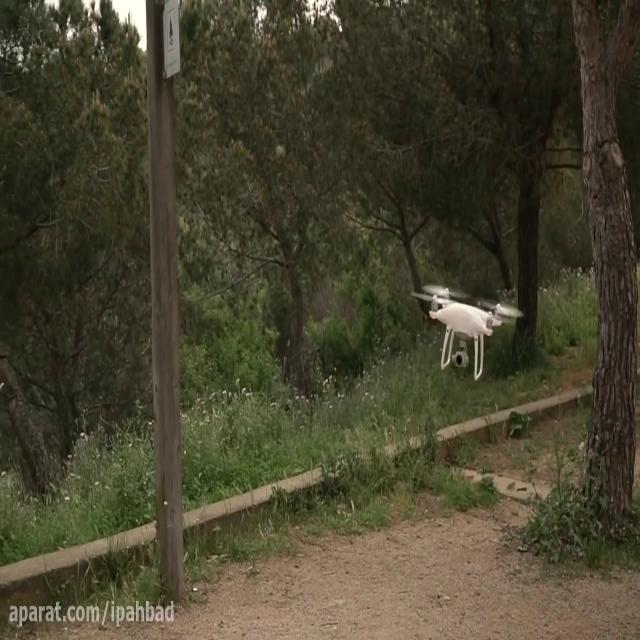drone: (411, 282, 525, 381)
